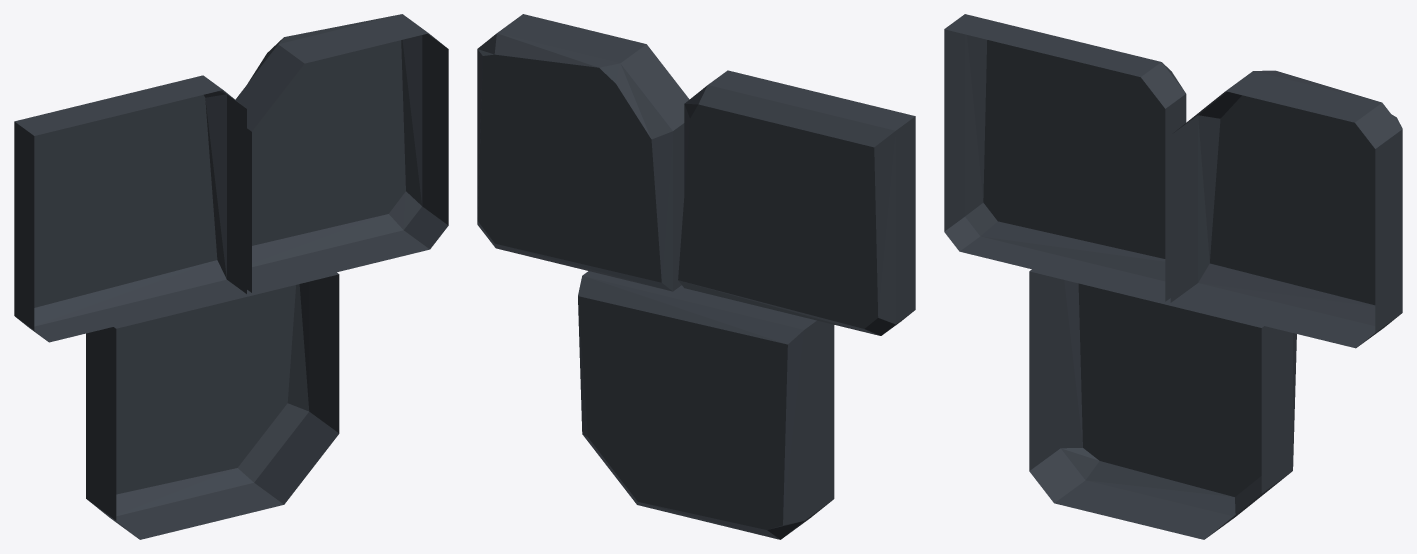
File: Ground Tiles 01.FBX
The picture shows the model from 3 angles, left to right: view 1: azimuth 30°, elevation 25°; view 2: azimuth 150°, elevation 25°; view 3: azimuth 330°, elevation 25°; orthographic projection. The views are drawn at different scales.
Visible parts, largest first — view 1: Ground Tiles 01; view 2: Ground Tiles 01; view 3: Ground Tiles 01.
Part boxes in pixels (box(x1,y1,x2,y2)): Ground Tiles 01: box(14, 14, 448, 539); Ground Tiles 01: box(477, 14, 915, 539); Ground Tiles 01: box(944, 14, 1402, 539).
Size of the model in its own units: 100 by 101 by 15.92.
